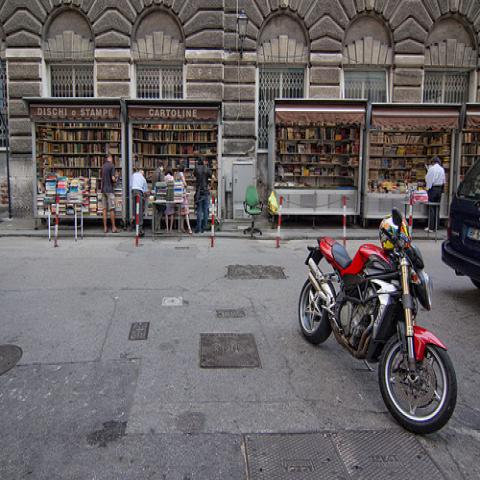car: (442, 158, 479, 291)
motorcycle: (298, 209, 457, 433)
